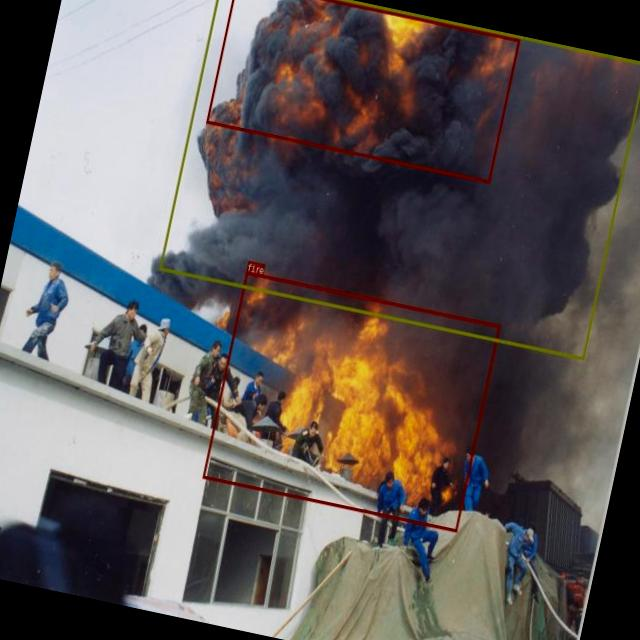fire: (202, 270, 500, 530), (205, 0, 519, 182)
smoke: (158, 0, 640, 360)
